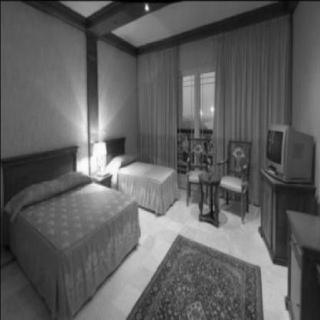other: (82, 134, 120, 192)
